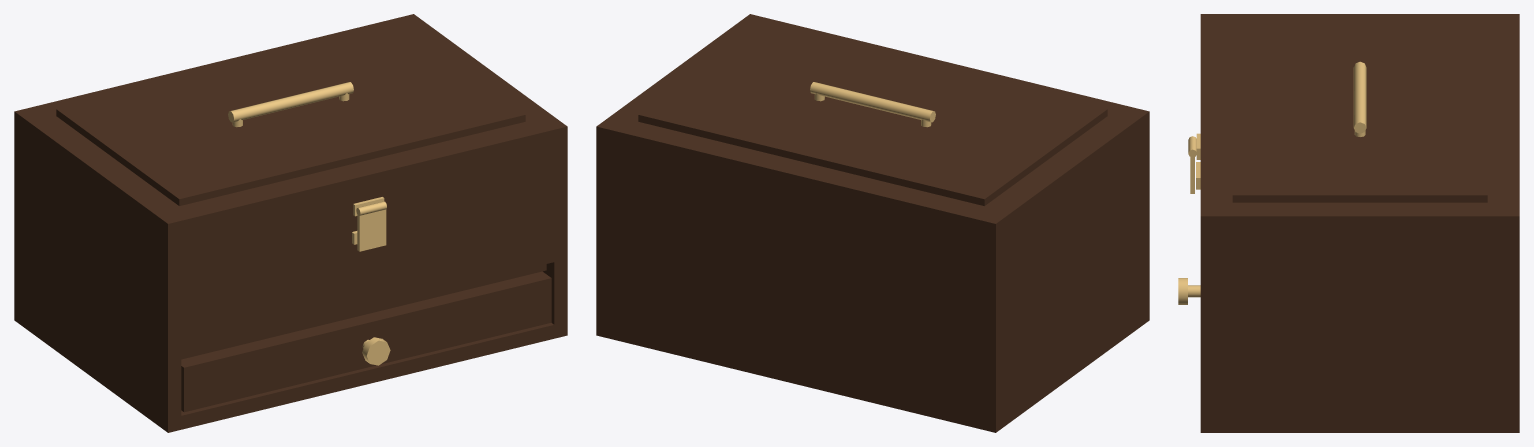
File: case_lod.glb
3 renders of one model, left to right at view 1: azimuth 30°, elevation 25°; view 2: azimuth 150°, elevation 25°; view 3: azimuth 270°, elevation 25°, orthographic. The views are drawn at different scales.
Parts seen in each view (by area): view 1: lid, body, drawer, lid_handle, hasp, drawer_knob; view 2: body, lid, lid_handle; view 3: lid, body, lid_handle, drawer_knob, hasp.
Part boxes in pixels (<box>): lid: <box>14,14,567,265</box>; body: <box>14,153,567,432</box>; drawer: <box>181,271,551,412</box>; lid_handle: <box>228,82,353,127</box>; hasp: <box>356,201,386,251</box>; drawer_knob: <box>362,337,390,365</box>; body: <box>596,153,1149,432</box>; lid: <box>596,14,1149,265</box>; lid_handle: <box>810,82,935,127</box>; lid: <box>1196,14,1519,259</box>; body: <box>1196,162,1519,432</box>; lid_handle: <box>1353,61,1366,136</box>; drawer_knob: <box>1178,278,1200,304</box>; hasp: <box>1188,136,1196,193</box>.
Size of the model in its own units: 0.3 by 0.166 by 0.214.
